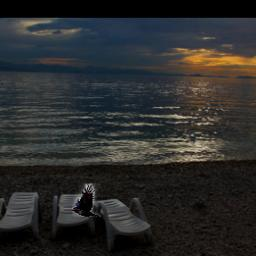Crow: (71, 183, 99, 217)
